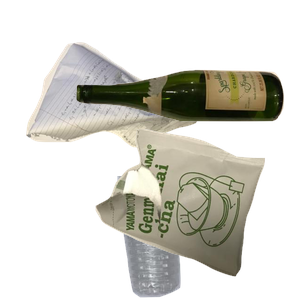glass: (74, 67, 300, 181)
paper: (23, 40, 223, 180)
plastic: (115, 176, 288, 300)
trash: (93, 126, 300, 300)
